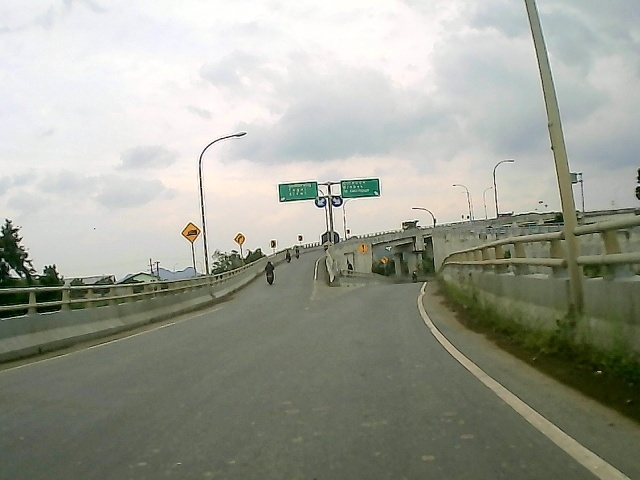Hati-hati: (358, 242, 368, 256)
Jalanan menanjak: (181, 219, 201, 244)
Tikungan ke kanan: (234, 231, 244, 246)
